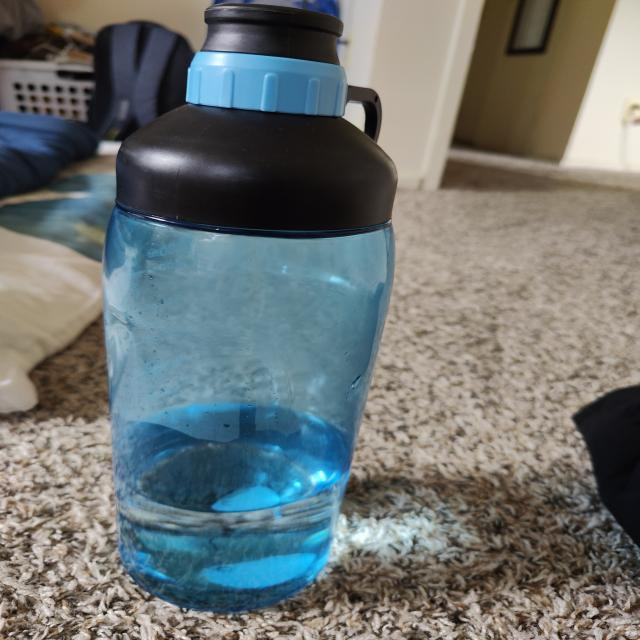bottle: (105, 5, 380, 603)
